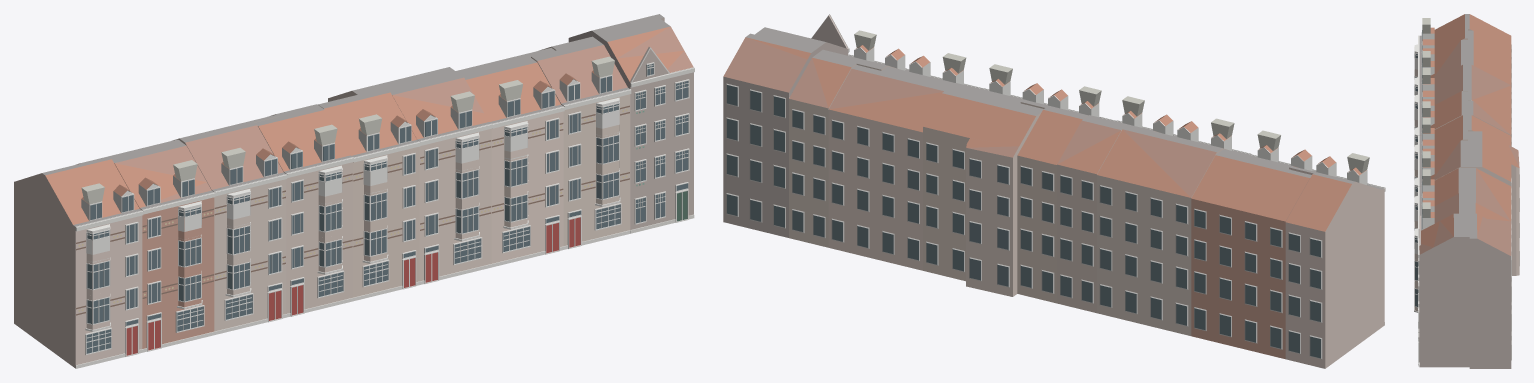
File: chunk-face-hasebroek-43-101-r1.glb
3 views of the same model, side by side, from view 1: azimuth 30°, elevation 25°; view 2: azimuth 150°, elevation 25°; view 3: azimuth 270°, elevation 25° (orthographic). The views are drawn at different scales.
Visible parts, largest first — view 1: face-hasebroek-43-101-r1; view 2: face-hasebroek-43-101-r1; view 3: face-hasebroek-43-101-r1.
Part boxes in pixels (<box>): face-hasebroek-43-101-r1: <box>14,14,694,368</box>; face-hasebroek-43-101-r1: <box>723,14,1385,368</box>; face-hasebroek-43-101-r1: <box>1414,14,1519,368</box>.
Bounding box in the file's own units: 58.46 × 16.29 × 11.5.
